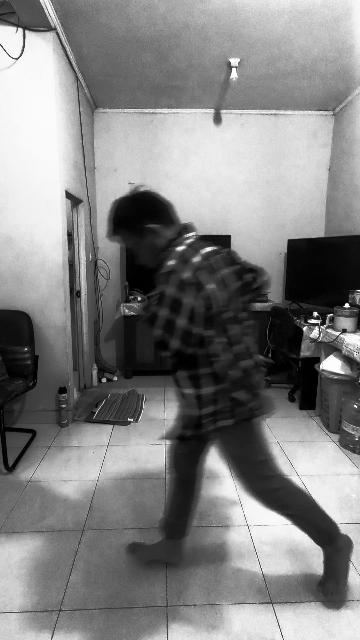berlari: (99, 192, 351, 610)
